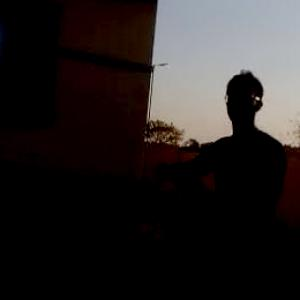follow: (148, 60, 287, 299)
